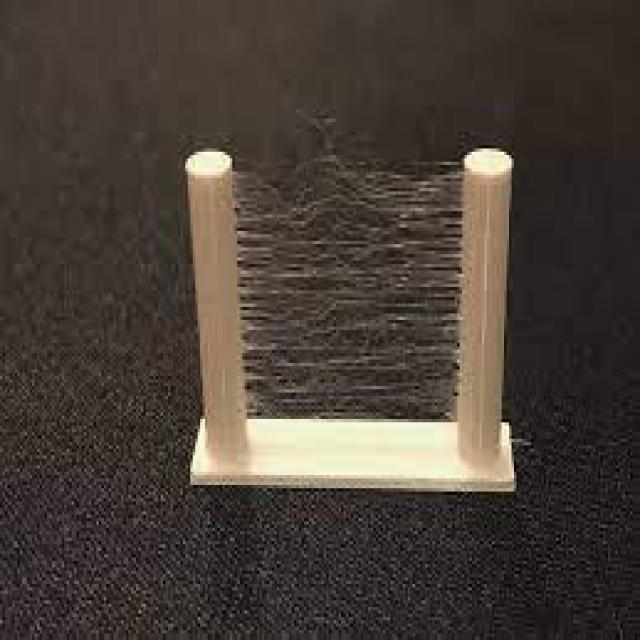spaghetti: (230, 166, 472, 434)
